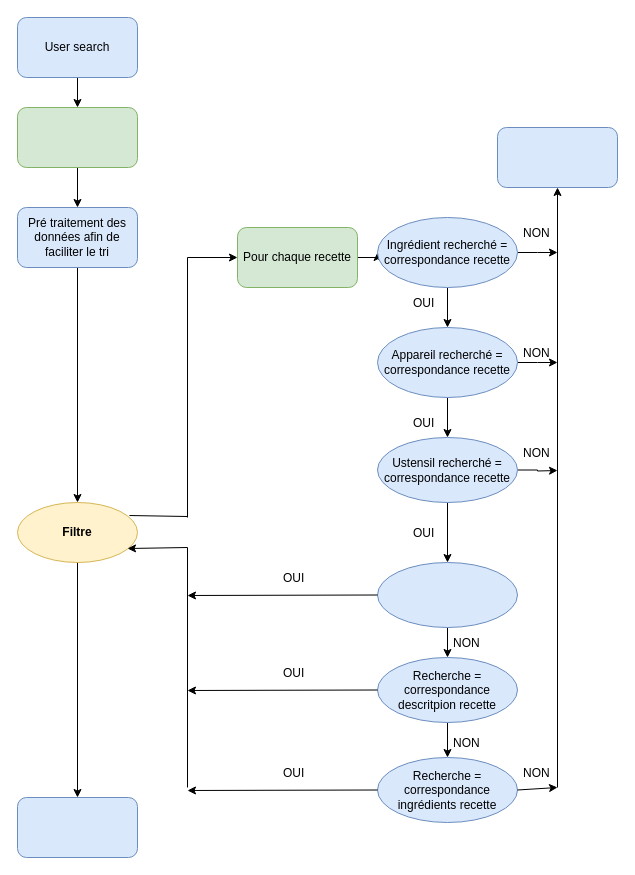
Some shapes in this 635 by 875 pixel diagram are drawn without their labels. The box of each missing label's shape, as (x1, y1, x2, y2) in pixels:
Appel du tableau comprenant toutes les recettes: (16, 106, 138, 168)
Message "pas de correspondance": (496, 126, 618, 188)
Recherche = correspondance nom de recette: (376, 562, 518, 628)
Renvoi du tableau avec les recettes contenants la recherche: (16, 796, 138, 858)
